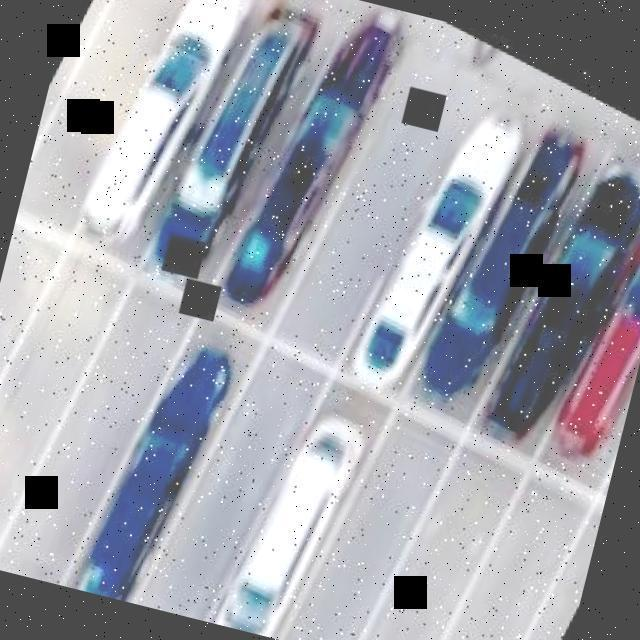car: (222, 34, 387, 316), (151, 11, 320, 278), (356, 108, 517, 385), (89, 0, 254, 244), (428, 138, 582, 387), (82, 353, 230, 600), (213, 413, 359, 640), (503, 185, 640, 416), (559, 221, 640, 456)
free: (138, 372, 308, 632), (18, 300, 177, 554), (25, 0, 184, 220), (288, 120, 432, 348), (279, 449, 427, 640), (0, 284, 103, 534), (356, 471, 504, 640), (424, 504, 571, 640), (0, 238, 55, 500), (492, 555, 587, 640)
